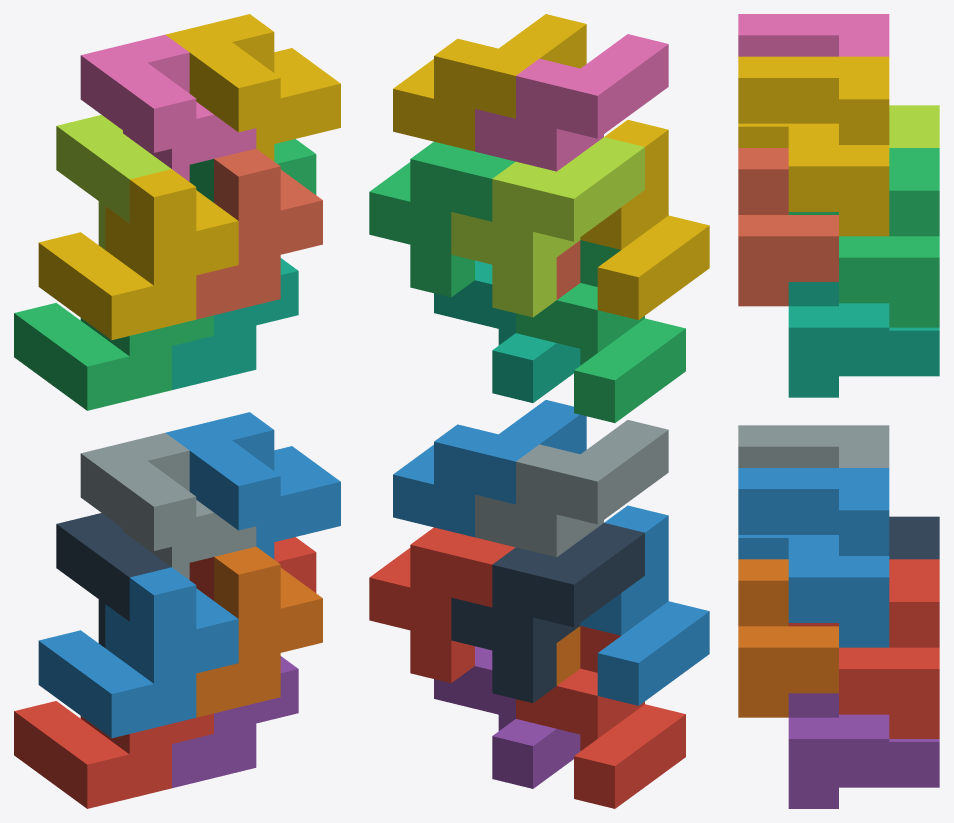
Rendered from tiling.obj.
3 views of the same model, side by side, from view 1: azimuth 30°, elevation 25°; view 2: azimuth 150°, elevation 25°; view 3: azimuth 270°, elevation 25° (orthographic). The views are drawn at different scales.
Parts seen in each view (by area): view 1: copy_1_domain_2, copy_1_domain_4, copy_2_domain_6, copy_2_domain_8, copy_2_domain_4, copy_2_domain_2, copy_1_domain_6, copy_1_domain_8, copy_1_domain_1, copy_1_domain_3, copy_2_domain_1, copy_2_domain_3 (+4 smaller); view 2: copy_2_domain_3, copy_2_domain_1, copy_2_domain_2, copy_2_domain_4, copy_1_domain_3, copy_1_domain_1, copy_2_domain_8, copy_1_domain_4, copy_1_domain_2, copy_2_domain_6, copy_2_domain_5, copy_2_domain_7 (+4 smaller); view 3: copy_2_domain_8, copy_2_domain_6, copy_2_domain_5, copy_2_domain_7, copy_1_domain_7, copy_1_domain_5, copy_1_domain_6, copy_1_domain_8, copy_2_domain_2, copy_2_domain_4, copy_2_domain_1, copy_2_domain_3 (+2 smaller).
Part boxes in pixels (<box>): copy_1_domain_2: <box>38,567,238,738</box>; copy_1_domain_4: <box>38,169,238,339</box>; copy_2_domain_6: <box>165,412,340,559</box>; copy_2_domain_8: <box>165,14,340,161</box>; copy_2_domain_4: <box>80,34,256,181</box>; copy_2_domain_2: <box>80,433,256,579</box>; copy_1_domain_6: <box>196,546,322,717</box>; copy_1_domain_8: <box>196,148,322,319</box>; copy_1_domain_1: <box>14,701,213,808</box>; copy_1_domain_3: <box>14,303,213,410</box>; copy_2_domain_1: <box>56,513,171,647</box>; copy_2_domain_3: <box>56,115,171,249</box>; copy_2_domain_3: <box>451,137,644,317</box>; copy_2_domain_1: <box>451,523,644,702</box>; copy_2_domain_2: <box>475,420,668,557</box>; copy_2_domain_4: <box>475,34,668,171</box>; copy_1_domain_3: <box>516,240,685,422</box>; copy_1_domain_1: <box>516,626,685,808</box>; copy_2_domain_8: <box>393,14,586,151</box>; copy_1_domain_4: <box>580,120,709,319</box>; copy_1_domain_2: <box>580,505,709,705</box>; copy_2_domain_6: <box>393,400,586,537</box>; copy_2_domain_5: <box>369,527,515,682</box>; copy_2_domain_7: <box>369,141,515,297</box>; copy_2_domain_8: <box>738,56,889,236</box>; copy_2_domain_6: <box>738,468,889,647</box>; copy_2_domain_5: <box>788,559,939,738</box>; copy_2_domain_7: <box>788,148,939,327</box>; copy_1_domain_7: <box>788,282,939,397</box>; copy_1_domain_5: <box>788,693,939,808</box>; copy_1_domain_6: <box>738,559,838,717</box>; copy_1_domain_8: <box>738,148,838,306</box>; copy_2_domain_2: <box>738,425,889,467</box>; copy_2_domain_4: <box>738,14,889,56</box>; copy_2_domain_1: <box>889,516,939,559</box>; copy_2_domain_3: <box>889,105,939,147</box>.
Size of the model in its own units: 6 by 16 by 4.
